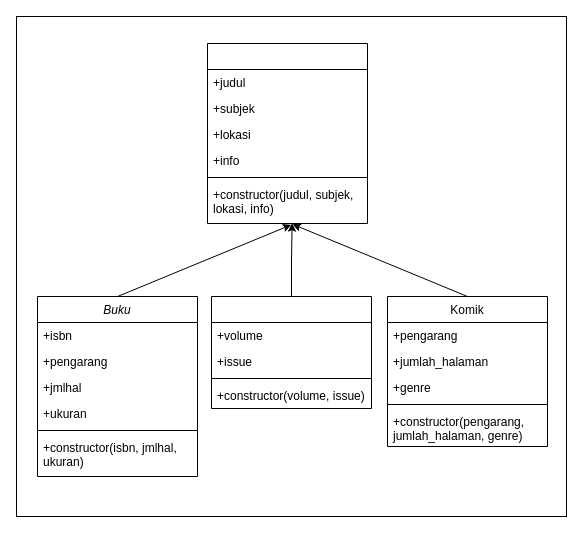
Some shapes in this 583 by 533 pixel diagram are drawn without their labels. The shapes that lost their labels are listed below. From the top down, each one's box as (x1, y1, x2, y2) in pixels, then its label:
(206, 42, 368, 224): PerpusItem
(210, 296, 372, 408): Majalah
